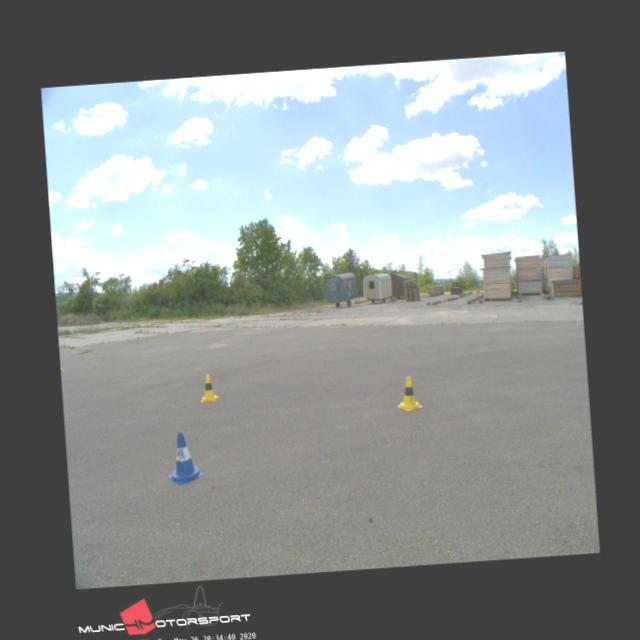blue_cone: (165, 431, 203, 484)
yellow_cone: (395, 375, 422, 410), (198, 374, 218, 401)
